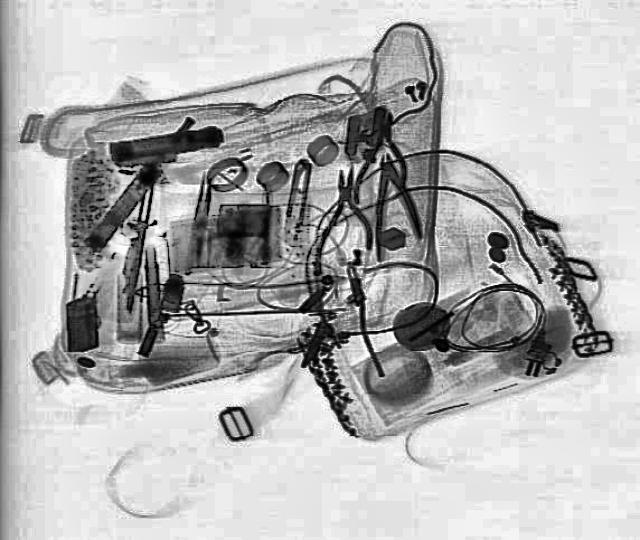Pliers: (356, 152, 426, 260), (311, 166, 373, 276), (351, 111, 407, 201)
